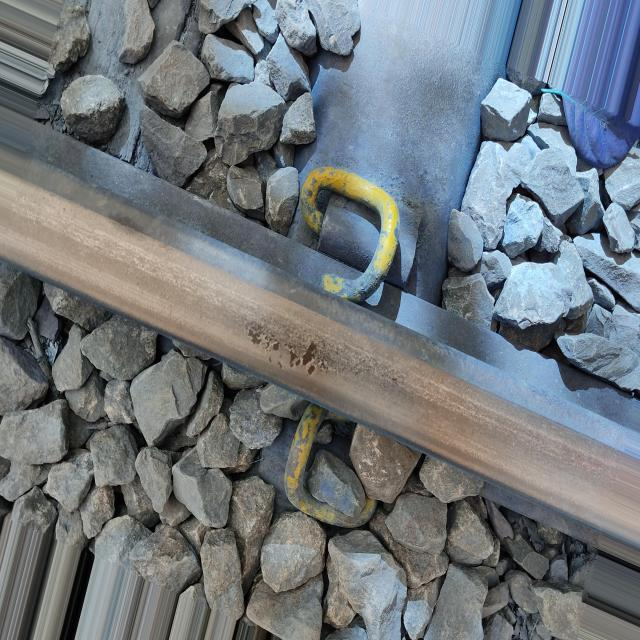Good Fasteners: (276, 132, 438, 336), (255, 400, 384, 554)
